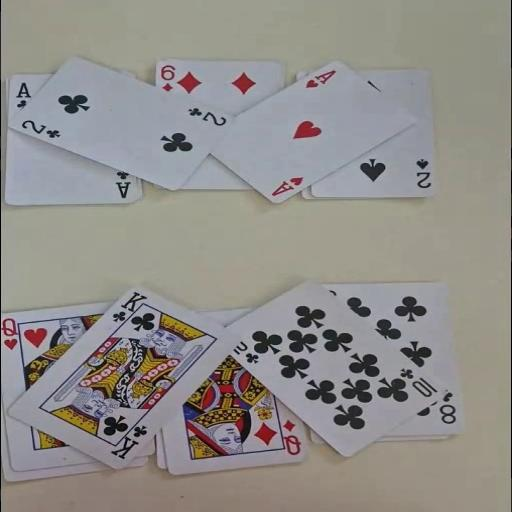10: (231, 339, 260, 364)
2: (185, 105, 229, 127), (19, 118, 62, 139), (414, 157, 432, 189)
6: (158, 64, 176, 92)
A: (268, 174, 305, 198), (302, 67, 338, 89), (114, 169, 132, 199), (14, 81, 32, 109)
K: (107, 418, 149, 460), (109, 290, 149, 326)
Q: (280, 418, 304, 456), (0, 316, 19, 350)
